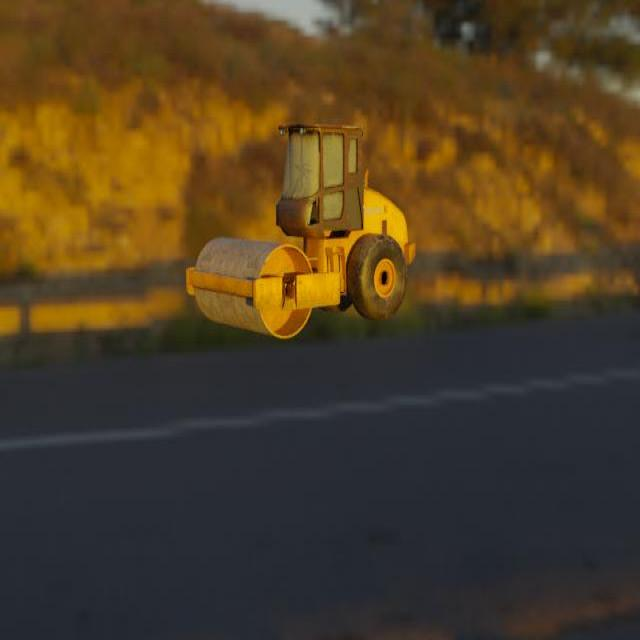Roller: (185, 122, 415, 338)
